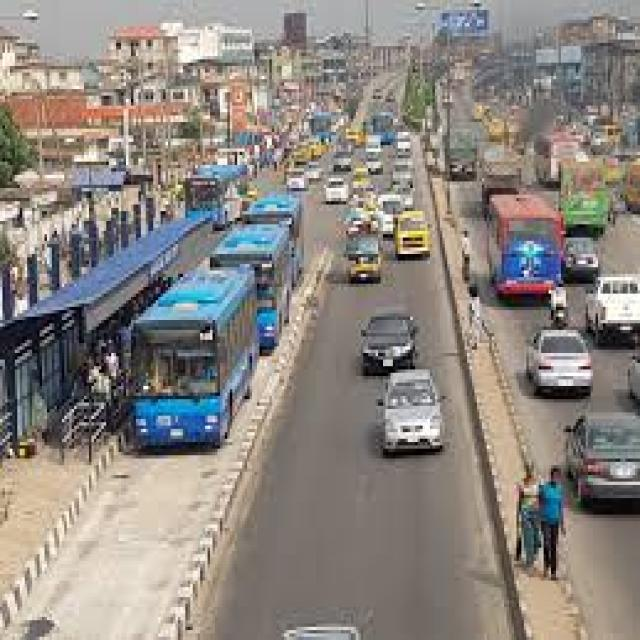bus: (133, 267, 255, 445), (210, 224, 287, 350), (489, 195, 558, 297), (242, 195, 301, 284), (185, 165, 245, 231)
car: (526, 290, 591, 393), (566, 416, 638, 498), (383, 369, 440, 452), (586, 274, 638, 343), (361, 317, 415, 373), (348, 218, 378, 280), (563, 238, 596, 280), (395, 214, 427, 257), (376, 195, 400, 238), (326, 178, 346, 201)
person: (539, 465, 561, 581), (519, 472, 536, 564), (462, 231, 474, 297), (469, 284, 479, 350)
